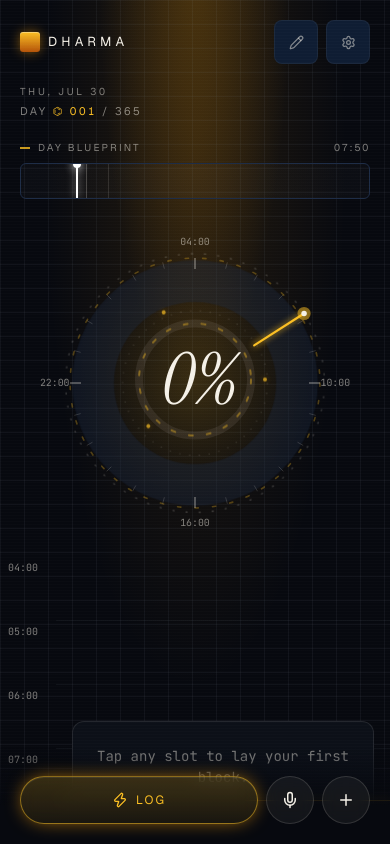
C-m4d-010: dock + → chooser → 'Add Brick' → AddBrickSheet opens with parentBlockId null › chooser 'Add Brick' opens AddBrickSheet; chooser closes
What coordinates should you click on to do the following:
click the button named "Add"
I would click on:
 (346, 800)
Its box is [322,776,370,824].
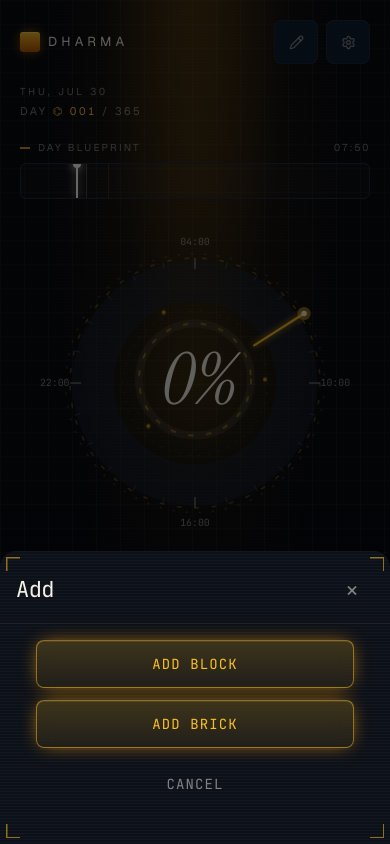
What coordinates should you click on to do the following:
click the button "Add Brick"
I would click on:
 (195, 724)
Its box is [36,700,354,748].
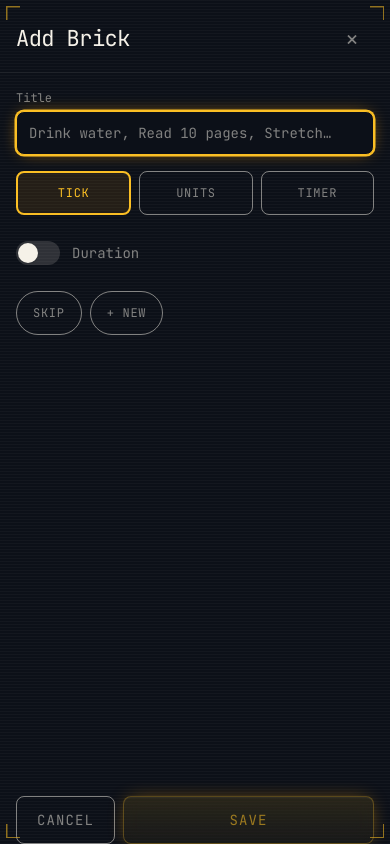
Now the dialog has attribute aria-label="Add Brick"
